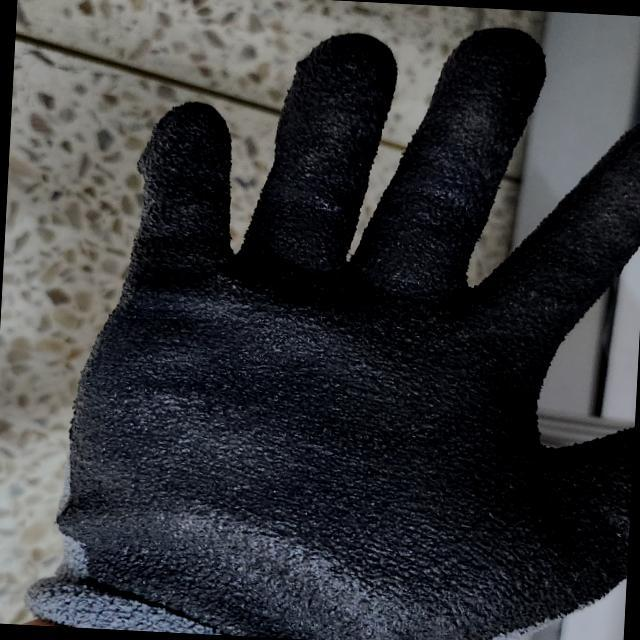Gloves: (73, 27, 636, 640)
